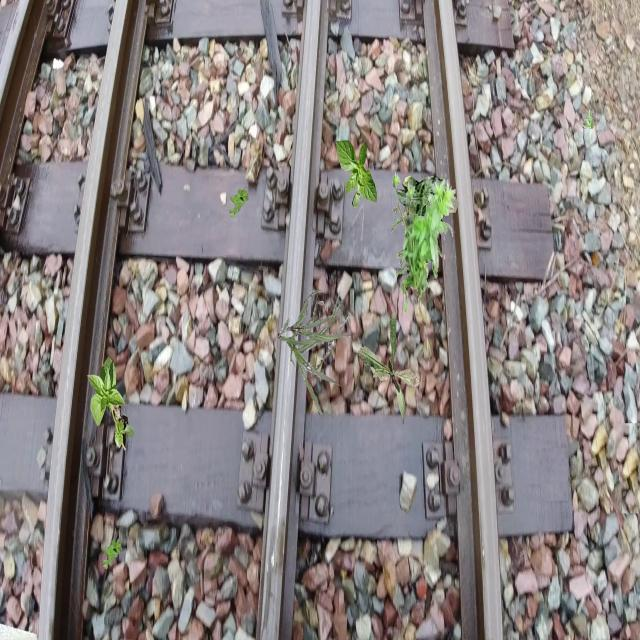Plant: (391, 171, 456, 314), (278, 290, 351, 414), (358, 313, 422, 425), (396, 176, 459, 259), (87, 356, 135, 451), (336, 138, 378, 209), (103, 537, 122, 570), (229, 186, 248, 218), (582, 109, 596, 130)
